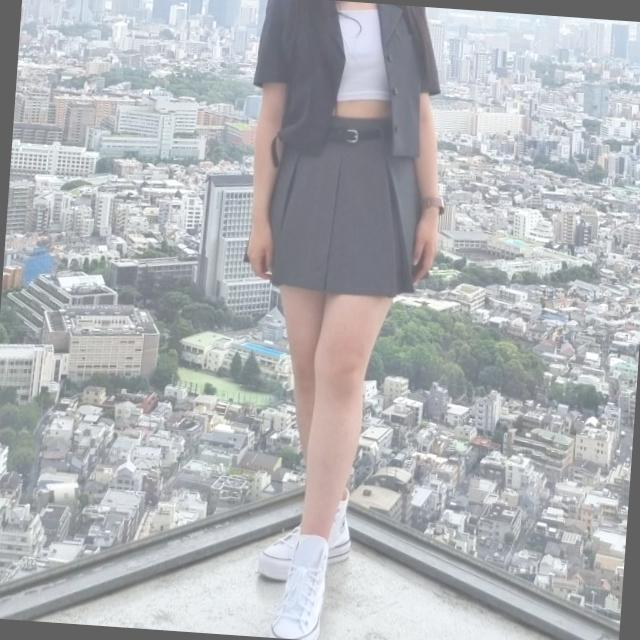blazer: (247, 0, 447, 159)
skirt: (262, 108, 430, 300)
